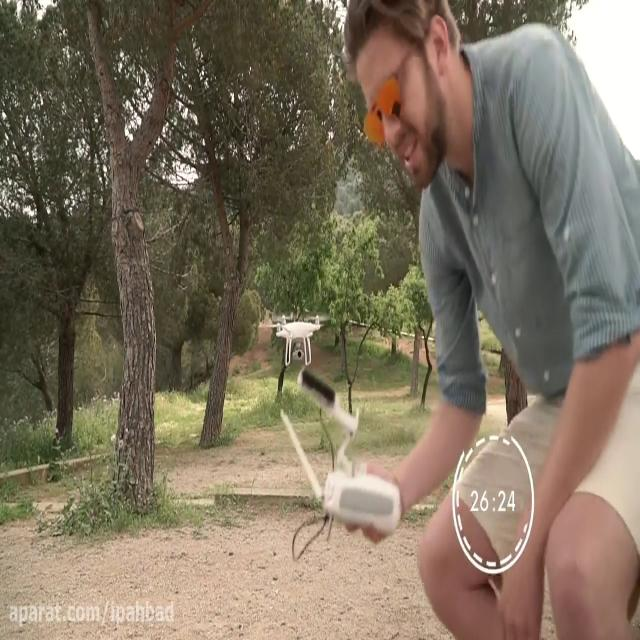drone: (259, 304, 335, 368)
